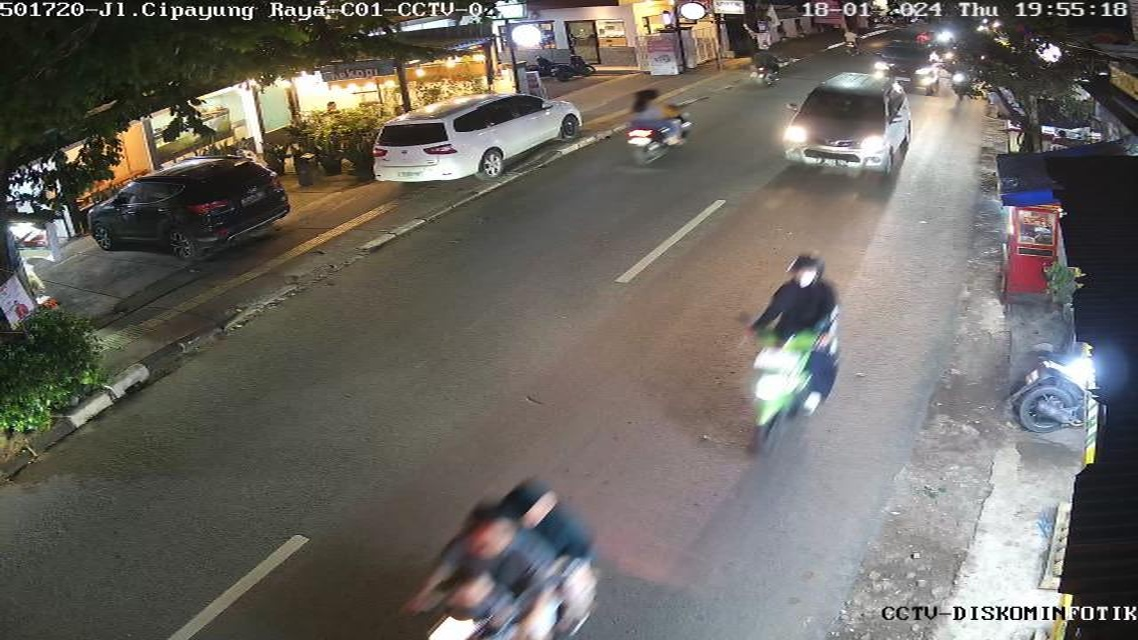Gerobak: (1001, 165, 1081, 314)
